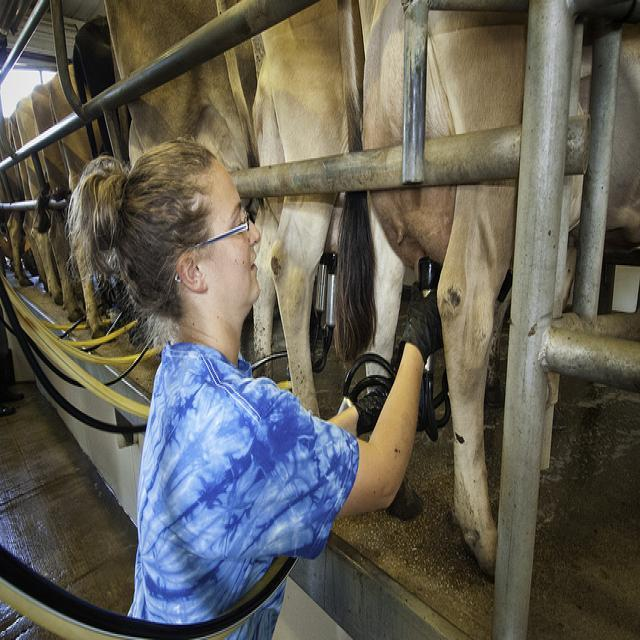cow: (335, 0, 520, 572), (214, 0, 346, 414), (104, 0, 249, 167), (47, 62, 114, 336), (29, 80, 79, 318), (10, 94, 61, 305), (70, 17, 129, 155), (0, 116, 32, 288)
